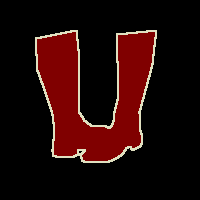shoe: (36, 30, 156, 162)
